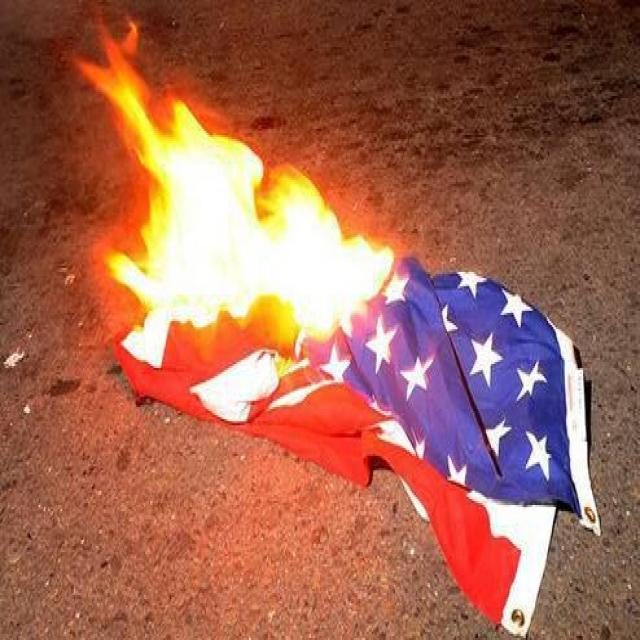fire: (67, 16, 401, 352)
other: (134, 327, 522, 621), (106, 330, 136, 385)
